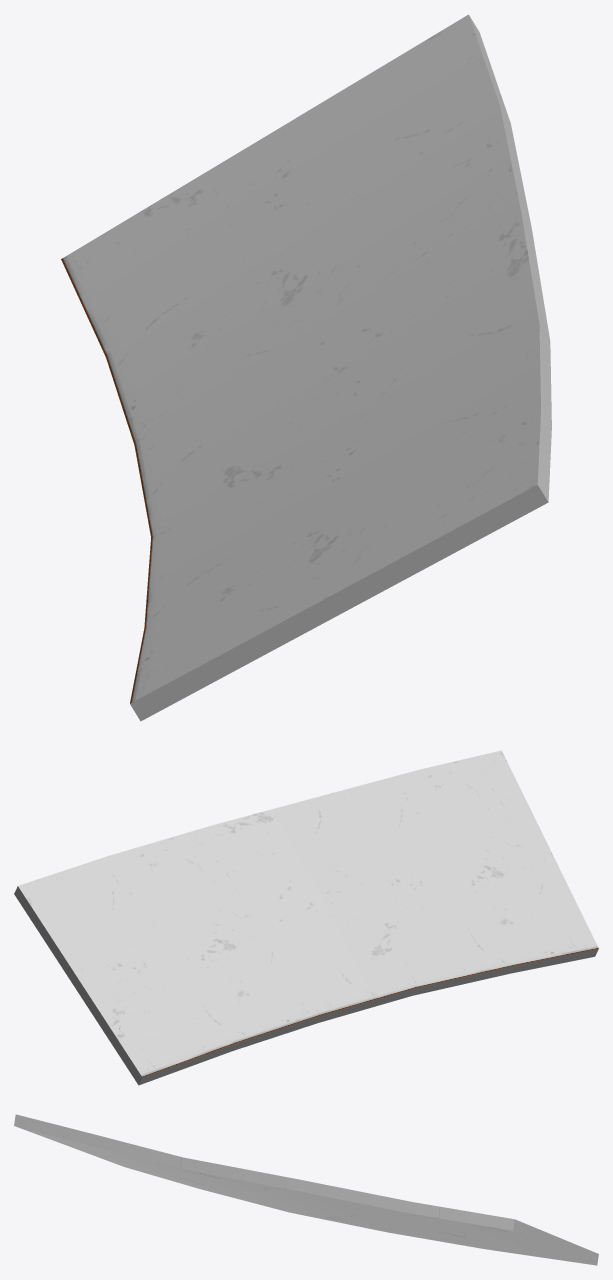
File: LabRoof_2.fbx
The picture shows the model from 3 angles, top to bottom: view 1: azimuth 30°, elevation 25°; view 2: azimuth 150°, elevation 25°; view 3: azimuth 270°, elevation 25°; orthographic projection. The views are drawn at different scales.
Parts seen in each view (by area): view 1: Lab_2; view 2: Lab_2; view 3: Lab_2.
Boxes of the visible parts, x1,y1,x2,y2 form: Lab_2: (61,14,551,721); Lab_2: (14,750,598,1085); Lab_2: (14,1114,598,1265).
Bounding box in the file's own units: 21.52 × 6.87 × 29.6.
